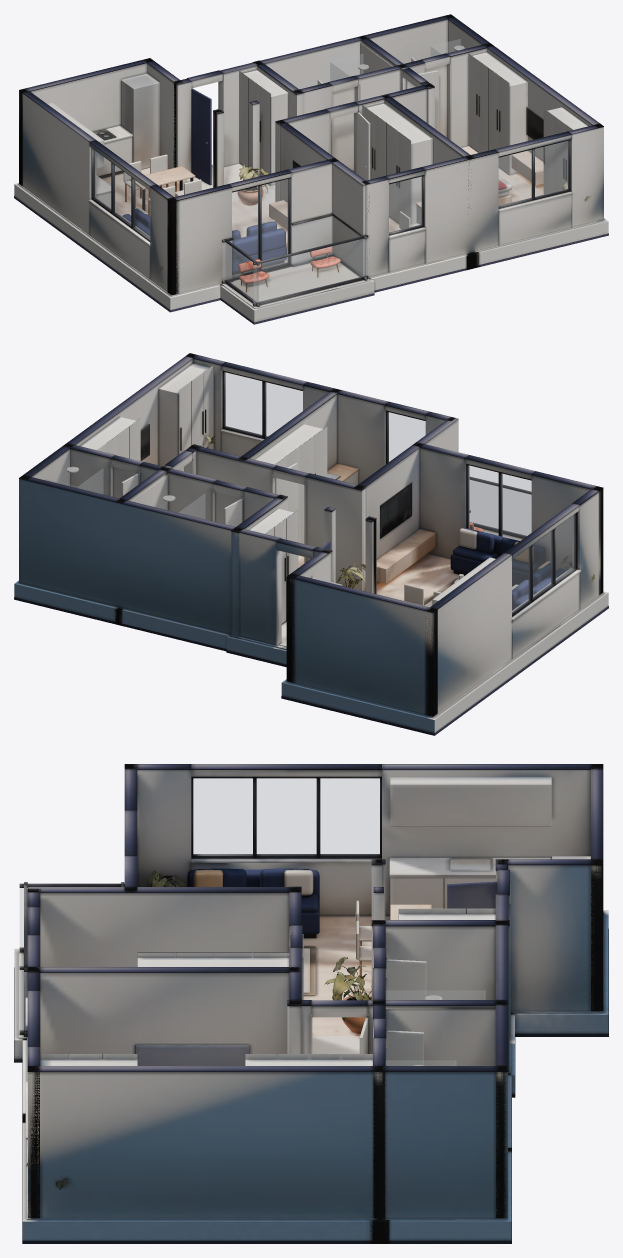
The picture shows the model from 3 angles, top to bottom: view 1: azimuth 30°, elevation 25°; view 2: azimuth 150°, elevation 25°; view 3: azimuth 270°, elevation 25°; orthographic projection. The views are drawn at different scales.
Visible parts, largest first — view 1: plan, railg2_m, glass1_m, glass3_m, glass0_m, glass2_m, railg1_m, railg3_m, sg.001_m; view 2: plan, glass1_m, glass3_m, glass0_m, railg2_m, glass2_m; view 3: plan, glass0_m, sg_m.
Boxes of the visible parts, x1,y1,x2,y2 form: plan: [14, 14, 608, 324]; railg2_m: [253, 238, 367, 303]; glass1_m: [232, 179, 288, 275]; glass3_m: [499, 141, 568, 206]; glass0_m: [93, 150, 149, 238]; glass2_m: [389, 177, 422, 232]; railg1_m: [292, 216, 332, 263]; railg3_m: [225, 242, 258, 303]; sg.001_m: [330, 54, 363, 80]; plan: [14, 353, 608, 735]; glass1_m: [468, 465, 531, 540]; glass3_m: [225, 372, 302, 436]; glass0_m: [512, 514, 575, 613]; railg2_m: [470, 480, 530, 535]; glass2_m: [388, 412, 425, 461]; plan: [14, 764, 608, 1243]; glass0_m: [193, 778, 379, 854]; sg_m: [386, 990, 484, 999].
Size of the model in its own units: 10.3 by 2.62 by 8.3.
Materials: 2 (1 with a texture image).
